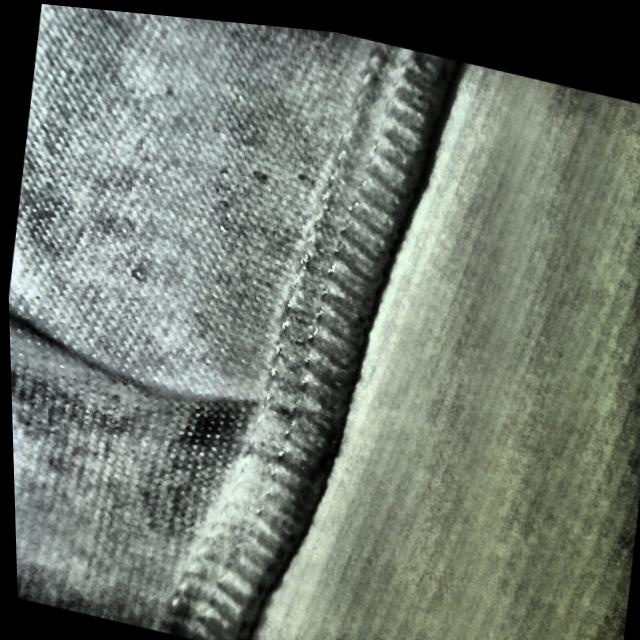seam: (12, 293, 367, 523)
